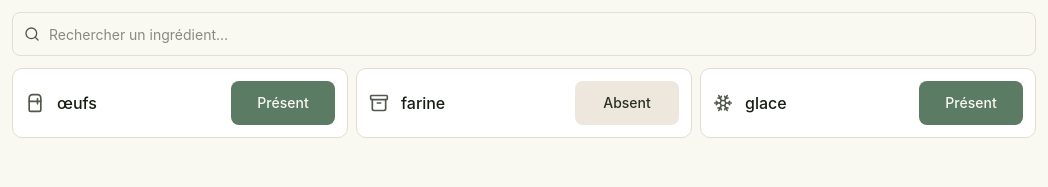
StockGrid › filtre les ingrédients de façon tolérante aux accents/ligatures
The width and height of the screenshot is (1048, 187).
Expected: the text "œufs" is shown, left=57, top=91, right=97, bottom=115
Type "oeuf" into the search field labelled "Rechercher un ingrédient" at point(524, 34), box left=12, top=12, right=1036, bottom=56
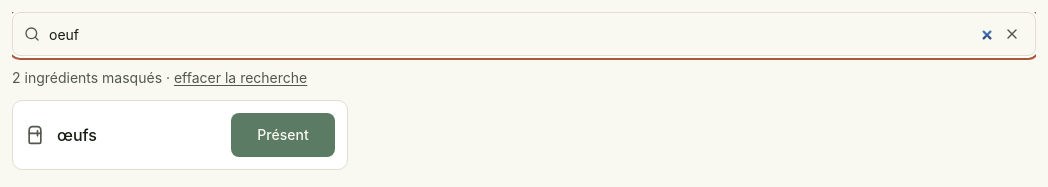
Expected: the text "œufs" is shown, left=57, top=123, right=97, bottom=147
Expected: the text "farine" is gone
Expected: the text "2 ingrédients masqués · effacer la recherche" is shown, left=12, top=68, right=307, bottom=88
